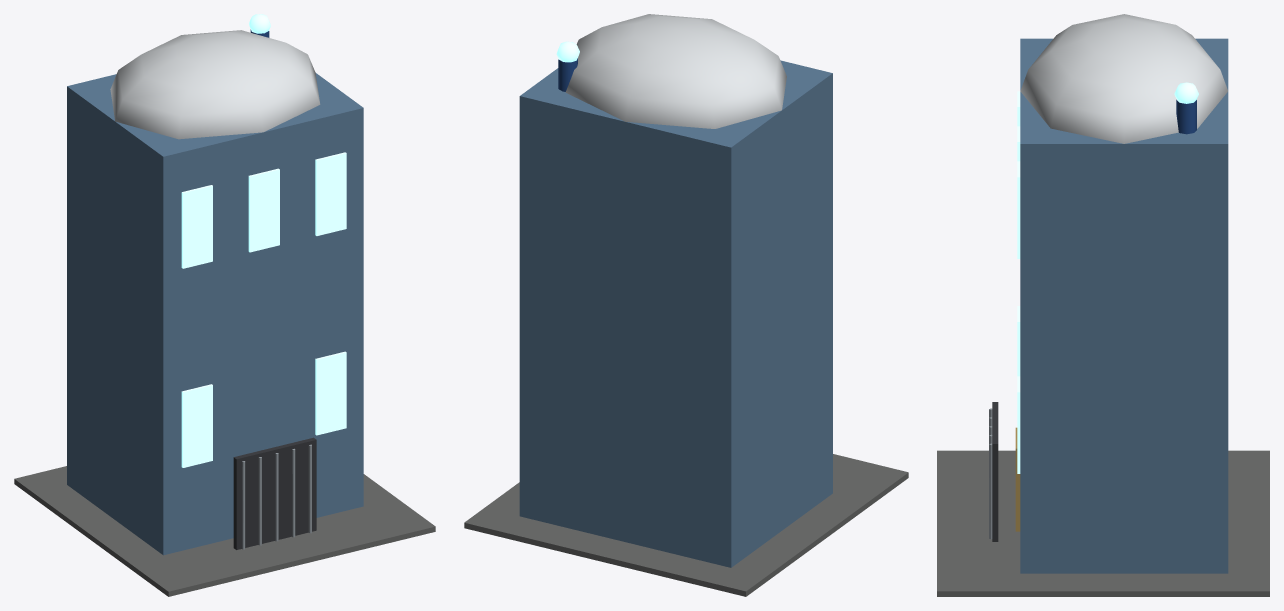
File: bld_special_police_a10_lod1.glb
3 views of the same model, side by side, from view 1: azimuth 30°, elevation 25°; view 2: azimuth 150°, elevation 25°; view 3: azimuth 270°, elevation 25° (orthographic). The views are drawn at different scales.
Parts seen in each view (by area): view 1: body; view 2: body; view 3: body.
Boxes of the visible parts, x1,y1,x2,y2 form: body: (14, 14, 435, 596); body: (464, 14, 908, 596); body: (937, 14, 1269, 596).
Size of the model in its own units: 8 by 13.05 by 8.
